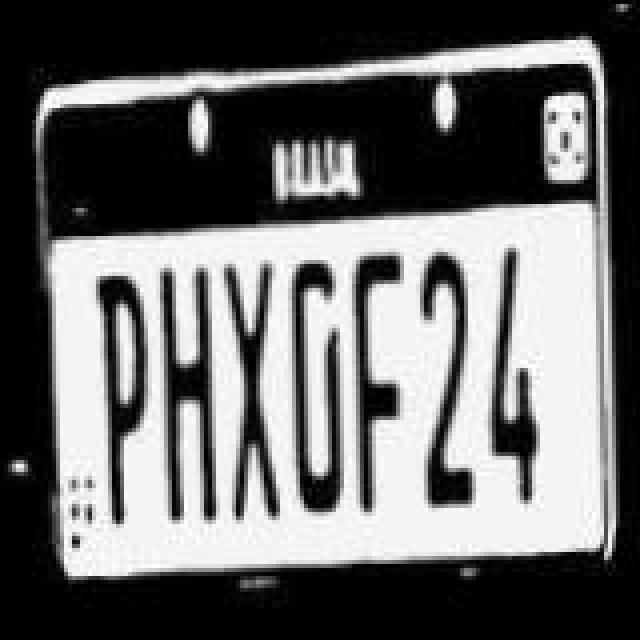2: (412, 250, 476, 510)
4: (474, 244, 538, 504)
D: (286, 256, 346, 516)
F: (346, 244, 402, 512)
H: (156, 264, 220, 528)
P: (94, 268, 154, 524)
X: (220, 260, 284, 524)
